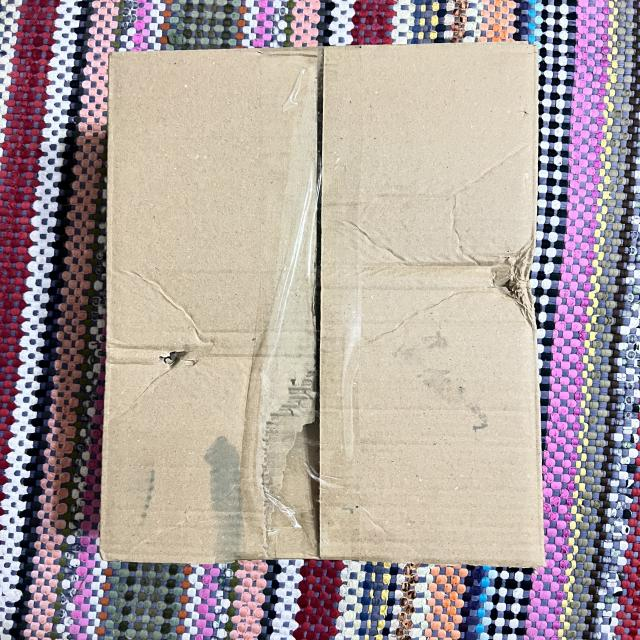damaged: (97, 37, 560, 580), (249, 362, 321, 564), (480, 213, 551, 338), (152, 341, 199, 374)
